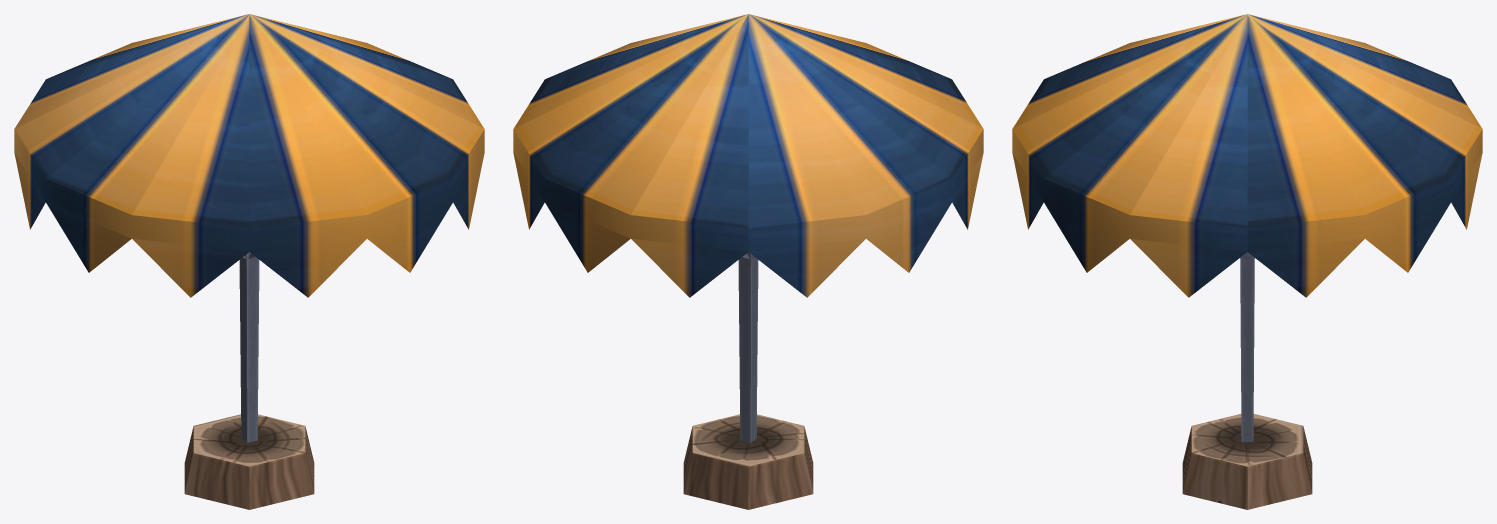
Rendered from Item_Parasols.FBX.
3 views of the same model, side by side, from view 1: azimuth 30°, elevation 25°; view 2: azimuth 150°, elevation 25°; view 3: azimuth 270°, elevation 25° (orthographic).
Parts seen in each view (by area): view 1: Item_Parasols; view 2: Item_Parasols; view 3: Item_Parasols.
Boxes of the visible parts, box(x1,y1,x2,y2) form: Item_Parasols: box(14, 14, 484, 509); Item_Parasols: box(513, 14, 983, 509); Item_Parasols: box(1012, 14, 1482, 509).
Size of the model in its own units: 296 by 323 by 296.
